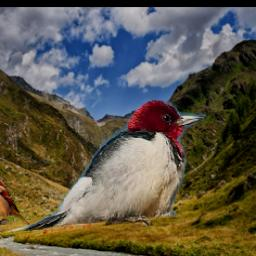Sparrow: (0, 164, 29, 226)
Woodpecker: (22, 100, 206, 232)
